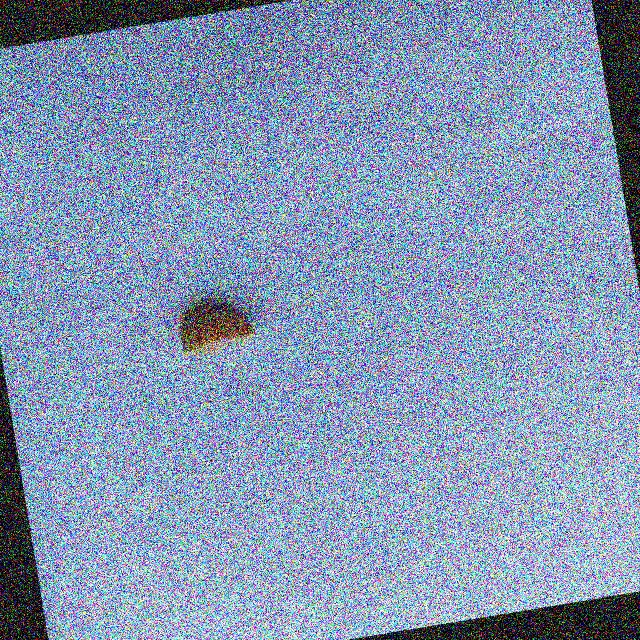grade4: (167, 288, 267, 365)
